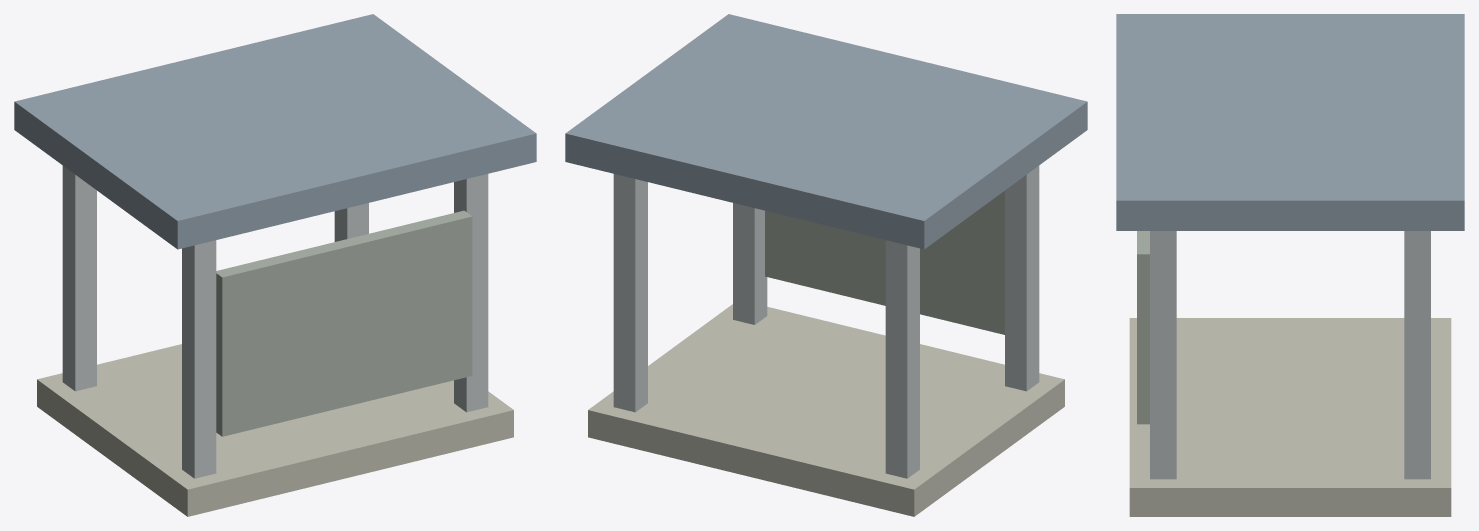
File: warlike-shelter-3d.gltf
3 renders of one model, left to right at view 1: azimuth 30°, elevation 25°; view 2: azimuth 150°, elevation 25°; view 3: azimuth 270°, elevation 25°, orthographic. The views are drawn at different scales.
Size of the model in its own units: 3.3 by 2.67 by 2.6.
